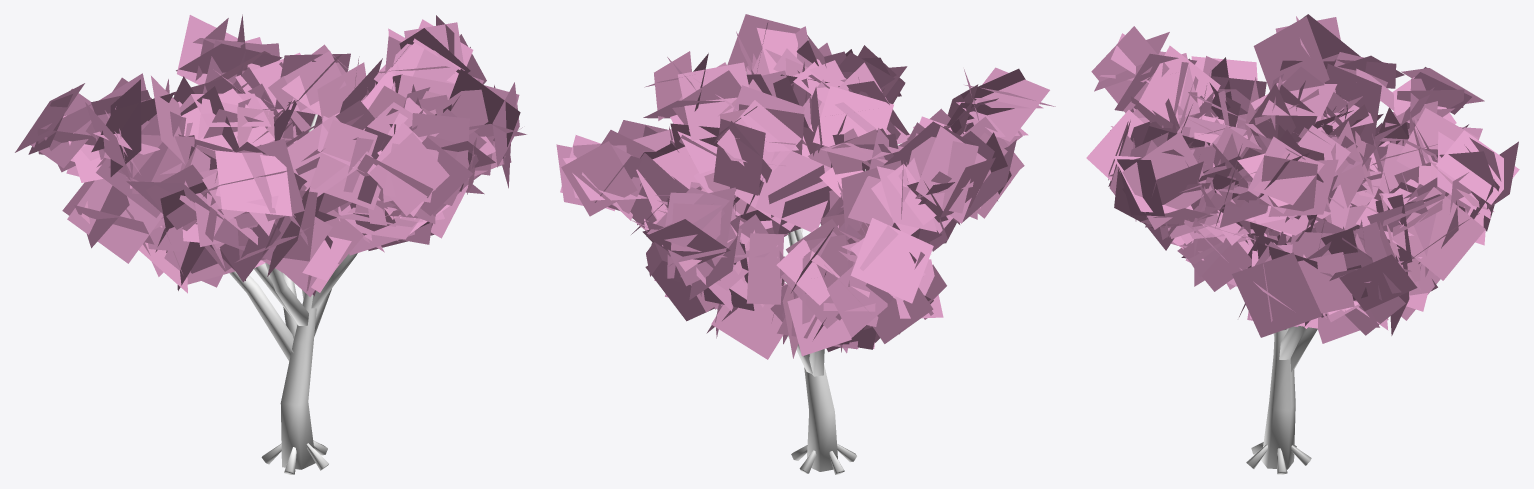
The model's file is SM_Sakura_Spread_LOD2.fbx.
3 views of the same model, side by side, from view 1: azimuth 30°, elevation 25°; view 2: azimuth 150°, elevation 25°; view 3: azimuth 270°, elevation 25° (orthographic). The views are drawn at different scales.
Parts seen in each view (by area): view 1: SM_Sakura_Spread_LOD2; view 2: SM_Sakura_Spread_LOD2; view 3: SM_Sakura_Spread_LOD2.
Part boxes in pixels (box(x1,y1,x2,y2)): SM_Sakura_Spread_LOD2: box(15, 14, 526, 474); SM_Sakura_Spread_LOD2: box(556, 14, 1055, 474); SM_Sakura_Spread_LOD2: box(1086, 14, 1519, 474).
Size of what is drawn, in the model's own units: 6.46 by 6.21 by 6.11.
